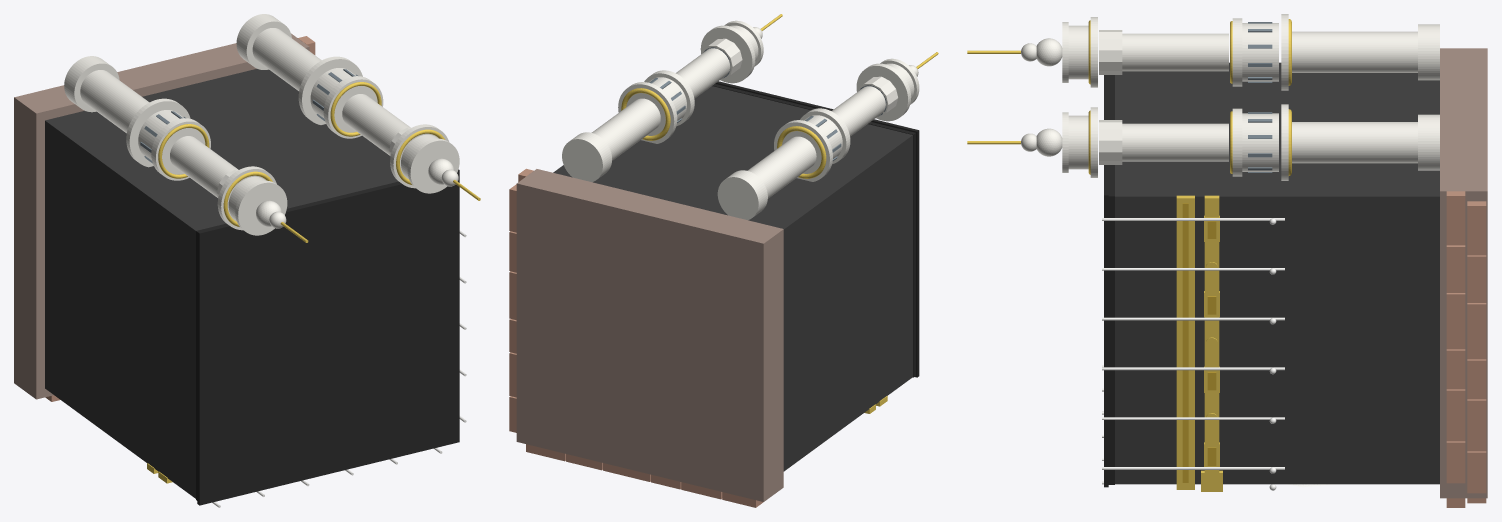
Rendered from kaaba_polished_detailed.glb.
The picture shows the model from 3 angles, left to right: view 1: azimuth 30°, elevation 25°; view 2: azimuth 150°, elevation 25°; view 3: azimuth 270°, elevation 25°; orthographic projection. The views are drawn at different scales.
Visible parts, largest first — view 1: Roof_Lip, Kaaba_Body, Plinth_Backup, Minaret_L_shaft_lower, Minaret_R_shaft_lower, Minaret_R_shaft_upper, Minaret_L_shaft_upper, Minaret_R_crown_ring, Minaret_L_crown_ring, Minaret_L_balcony_cap1, Minaret_R_balcony_cap1, Minaret_L_balcony_slab1 (+10 smaller); view 2: Plinth_Backup, Kaaba_Body, Minaret_L_shaft_lower, Minaret_R_shaft_lower, Minaret_L_pedestal, Minaret_R_pedestal, Roof_Lip, Minaret_L_shaft_upper, Minaret_R_shaft_upper, Minaret_L_balcony_slab2, Minaret_R_balcony_slab2, Top_Cap (+10 smaller); view 3: Kaaba_Body, Plinth_Backup, Minaret_L_shaft_lower, Minaret_R_shaft_lower, Minaret_L_shaft_upper, Minaret_R_shaft_upper, Gold_Belt_R, Gold_Belt2_R, Top_Cap, Minaret_L_balcony_drum1, Minaret_R_balcony_drum1, Gold_Belt_R_Inner (+27 smaller).
Boxes of the visible parts, left/top/right/bottom form: Roof_Lip: left=197, top=169, right=459, bottom=505; Kaaba_Body: left=45, top=69, right=398, bottom=498; Plinth_Backup: left=14, top=33, right=309, bottom=399; Minaret_L_shaft_lower: left=80, top=70, right=149, bottom=133; Minaret_R_shaft_lower: left=252, top=28, right=321, bottom=90; Minaret_R_shaft_upper: left=342, top=94, right=410, bottom=155; Minaret_L_shaft_upper: left=170, top=136, right=238, bottom=197; Minaret_R_crown_ring: left=407, top=138, right=459, bottom=193; Minaret_L_crown_ring: left=235, top=180, right=287, bottom=235; Minaret_L_balcony_cap1: left=151, top=118, right=210, bottom=180; Minaret_R_balcony_cap1: left=323, top=76, right=383, bottom=138; Minaret_L_balcony_slab1: left=126, top=98, right=190, bottom=167; Plinth_Backup: left=516, top=169, right=783, bottom=501; Kaaba_Body: left=553, top=86, right=912, bottom=471; Minaret_L_shaft_lower: left=747, top=136, right=816, bottom=198; Minaret_R_shaft_lower: left=591, top=98, right=660, bottom=160; Minaret_L_pedestal: left=717, top=170, right=767, bottom=220; Minaret_R_pedestal: left=562, top=132, right=612, bottom=182; Roof_Lip: left=715, top=81, right=919, bottom=377; Minaret_L_shaft_upper: left=831, top=86, right=885, bottom=136; Minaret_R_shaft_upper: left=676, top=48, right=729, bottom=98; Minaret_L_balcony_slab2: left=856, top=63, right=911, bottom=121; Minaret_R_balcony_slab2: left=700, top=25, right=755, bottom=83; Top_Cap: left=712, top=84, right=915, bottom=377; Kaaba_Body: left=1115, top=62, right=1439, bottom=484; Plinth_Backup: left=1440, top=48, right=1487, bottom=498; Minaret_L_shaft_lower: left=1292, top=31, right=1417, bottom=72; Minaret_R_shaft_lower: left=1292, top=122, right=1417, bottom=163; Minaret_L_shaft_upper: left=1122, top=33, right=1228, bottom=71; Minaret_R_shaft_upper: left=1122, top=123, right=1228, bottom=161; Gold_Belt_R: left=1176, top=195, right=1194, bottom=487; Gold_Belt2_R: left=1204, top=195, right=1219, bottom=487; Top_Cap: left=1108, top=75, right=1114, bottom=484; Minaret_L_balcony_drum1: left=1242, top=23, right=1278, bottom=81; Minaret_R_balcony_drum1: left=1242, top=113, right=1278, bottom=171; Gold_Belt_R_Inner: left=1182, top=203, right=1188, bottom=482.
Bounding box in the file's own units: 5.73 × 6.76 × 8.53.
